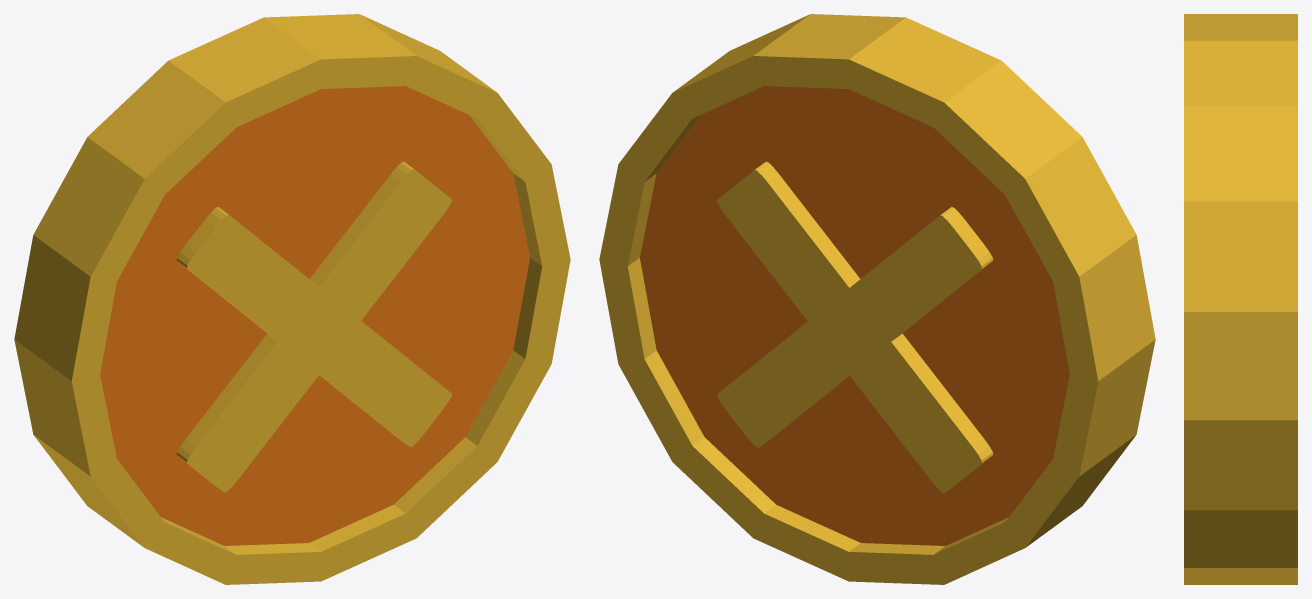
Rendered from coin10.fbx.
3 renders of one model, left to right at view 1: azimuth 30°, elevation 25°; view 2: azimuth 150°, elevation 25°; view 3: azimuth 270°, elevation 25°, orthographic.
Visible parts, largest first — view 1: Coin10; view 2: Coin10; view 3: Coin10.
Boxes of the visible parts, x1,y1,x2,y2 form: Coin10: [14, 14, 570, 584]; Coin10: [599, 14, 1155, 584]; Coin10: [1184, 14, 1297, 584].
Bounding box in the file's own units: 84.1 × 84.1 × 16.74.
